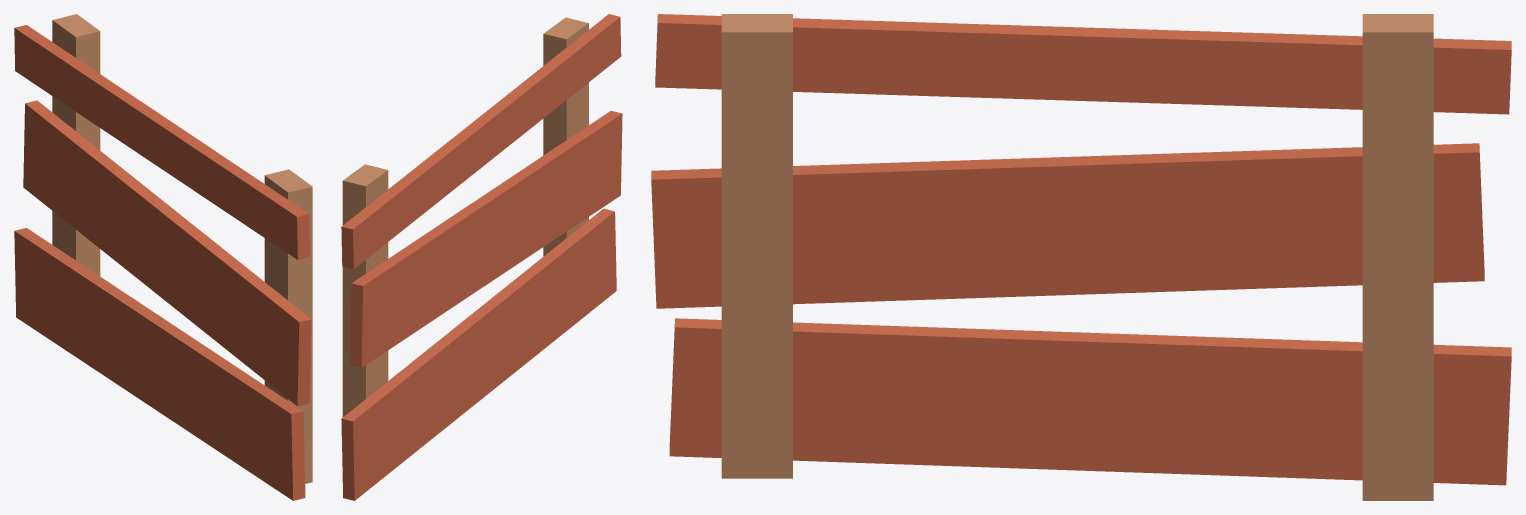
File: gate.glb
3 renders of one model, left to right at view 1: azimuth 30°, elevation 25°; view 2: azimuth 150°, elevation 25°; view 3: azimuth 270°, elevation 25°, orthographic. The views are drawn at different scales.
Parts seen in each view (by area): view 1: platform_woodCrookedHalf; view 2: platform_woodCrookedHalf; view 3: platform_woodCrookedHalf.
Part boxes in pixels (x1=…): platform_woodCrookedHalf: x1=14, y1=14, x2=312, y2=500; platform_woodCrookedHalf: x1=341, y1=14, x2=622, y2=500; platform_woodCrookedHalf: x1=651, y1=14, x2=1511, y2=500.
Size of the model in its own units: 0.075 by 0.6087 by 1.01.
